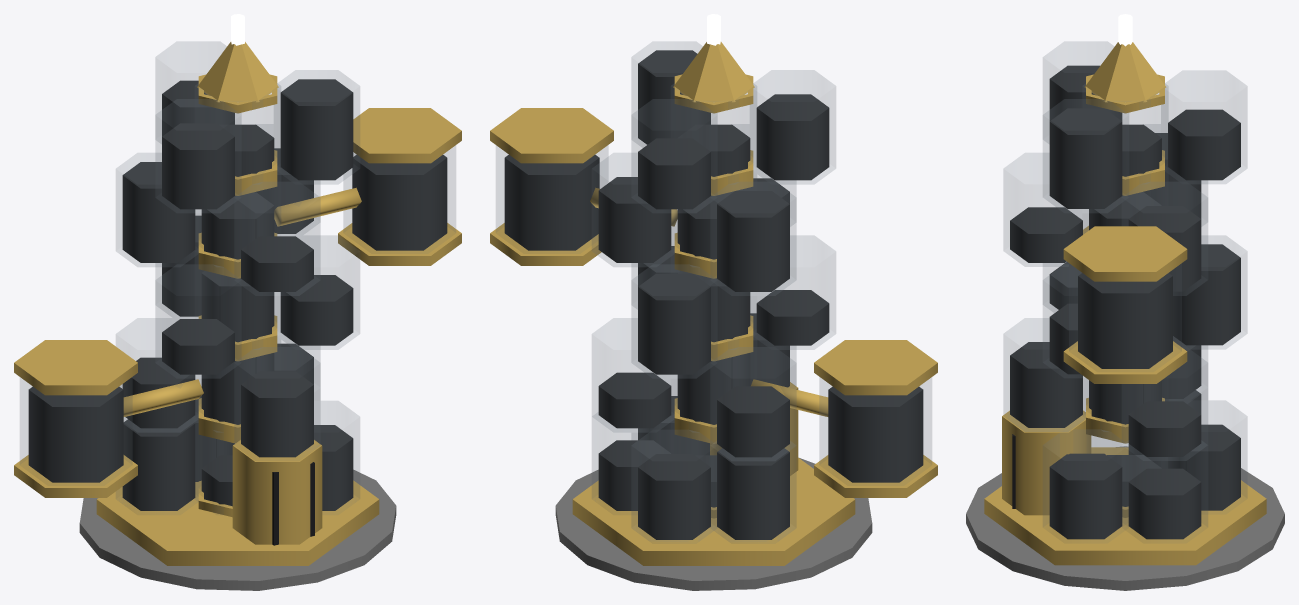
File: Skin_Hive_T2.glb
The picture shows the model from 3 angles, left to right: view 1: azimuth 30°, elevation 25°; view 2: azimuth 150°, elevation 25°; view 3: azimuth 270°, elevation 25°; orthographic projection.
Parts seen in each view (by area): view 1: Skin_Hive_T2; view 2: Skin_Hive_T2; view 3: Skin_Hive_T2.
Boxes of the visible parts, left/top/right/bottom form: Skin_Hive_T2: left=14, top=14, right=461, bottom=590; Skin_Hive_T2: left=490, top=14, right=937, bottom=590; Skin_Hive_T2: left=966, top=14, right=1284, bottom=590.
Size of the model in its own units: 5.28 by 6.14 by 3.5.
